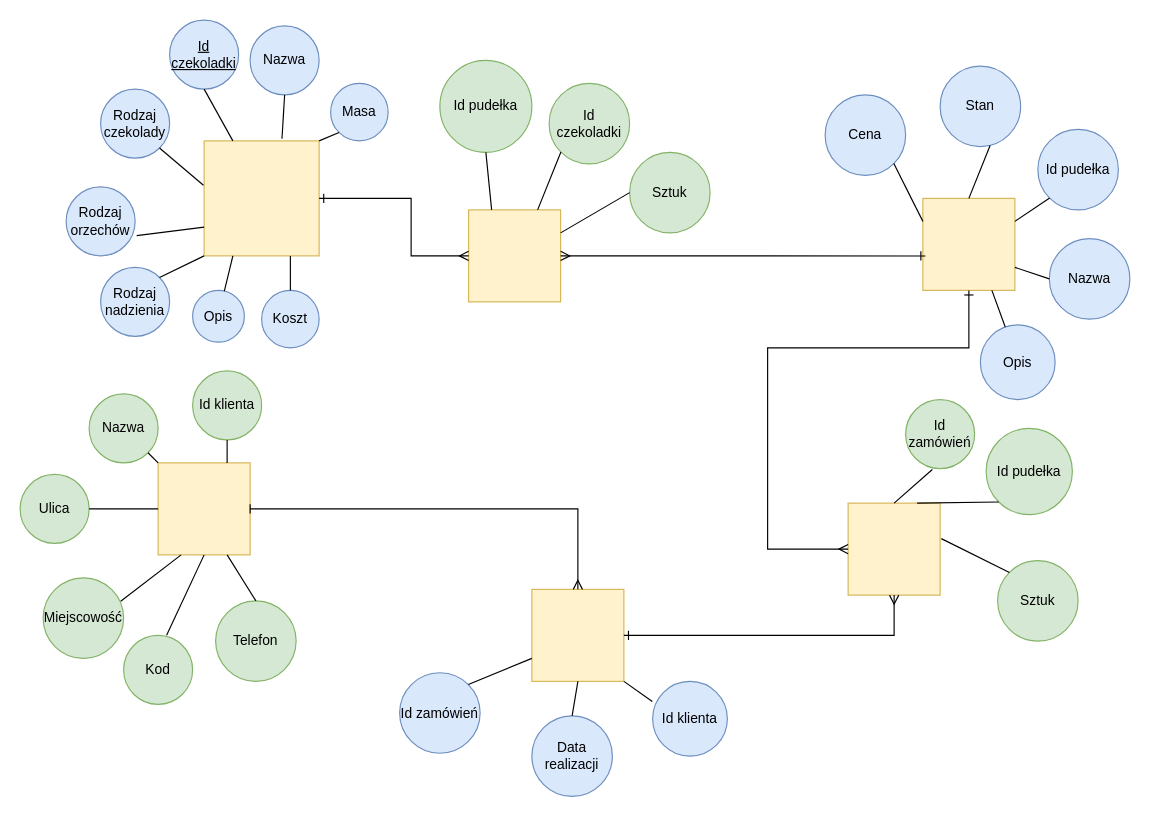
The diagram is 1150 pixels wide and 817 high, and some of its shapes have lost their labels. The shapes that lost their labels are listed below. From the top down, each one's box as (x1, y1, x2, y2) in pixels, then its label:
(203, 140, 319, 256): Czekoladki
(467, 209, 561, 302): Zawartość
(922, 197, 1015, 290): Pudełka
(157, 462, 250, 555): Klienci
(847, 502, 940, 595): Artykuły
(531, 588, 624, 681): Zamówienia
